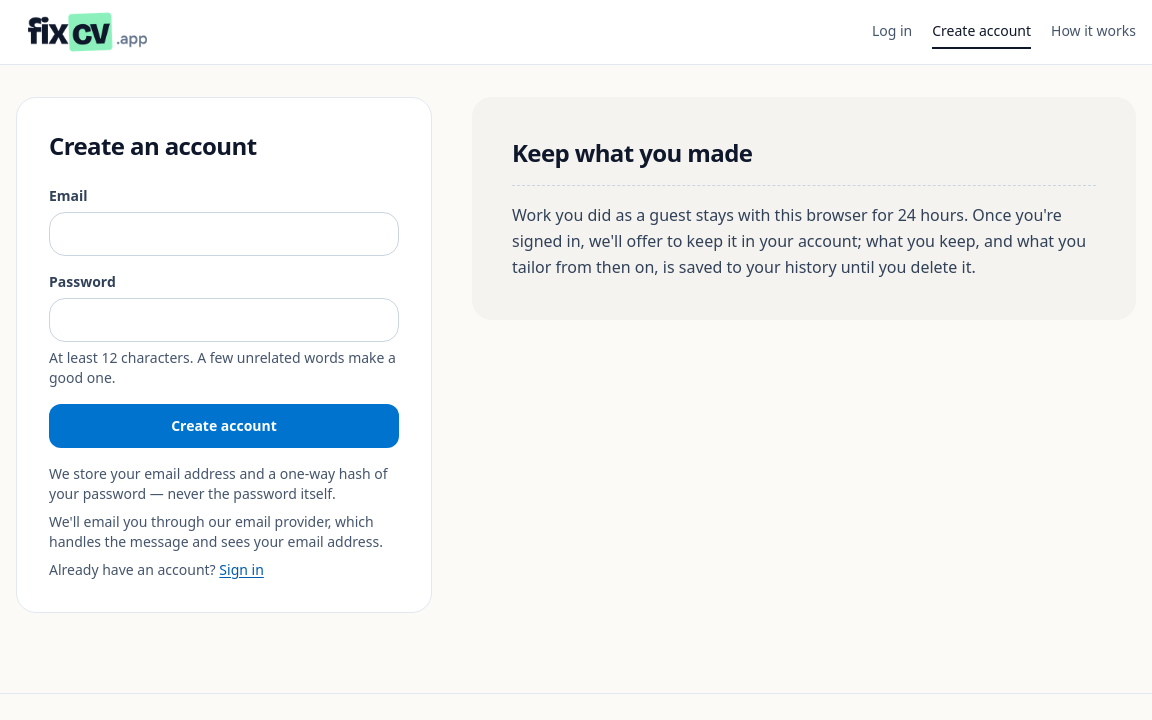
Test case: /register → Check your email › has one h1, the heading as an h2 that holds focus, and the instruction in a status region
Expected: the heading named "FixCV" is shown, [16,12,159,52]
In the field labelled "Email": point(224, 234) [49,212,399,256], type "alex.marker@example.com"
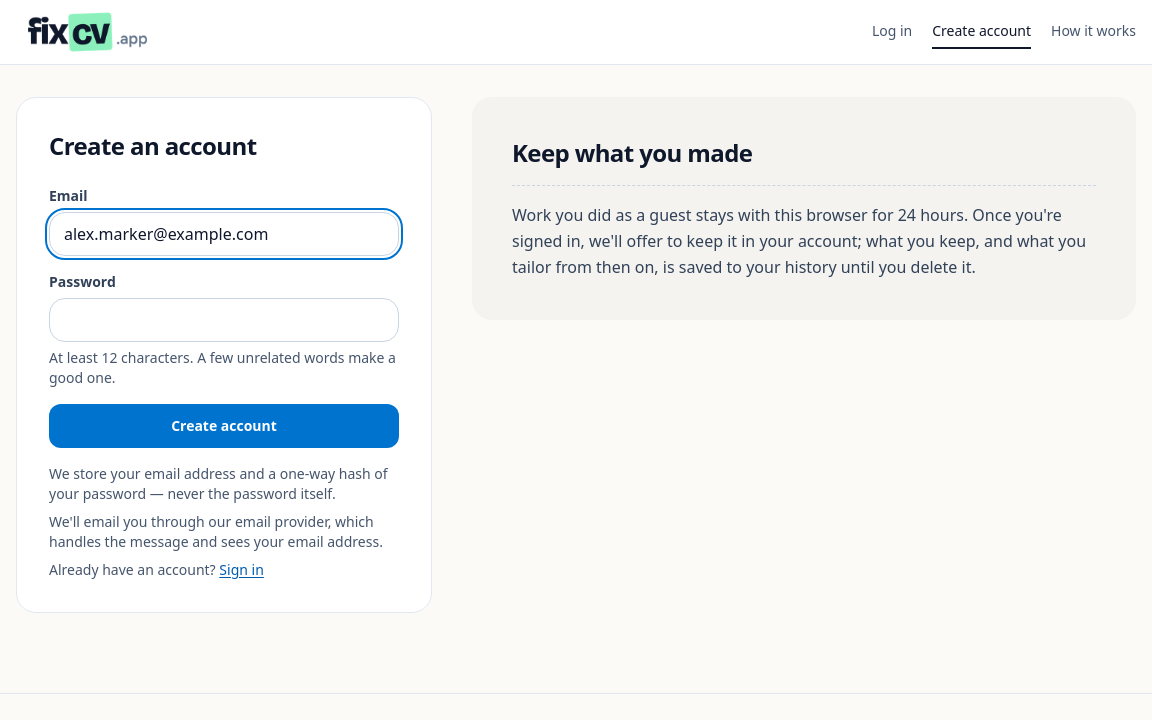
In the password field labelled "Password": point(224, 320) [49,298,399,342], type "a very long real password"
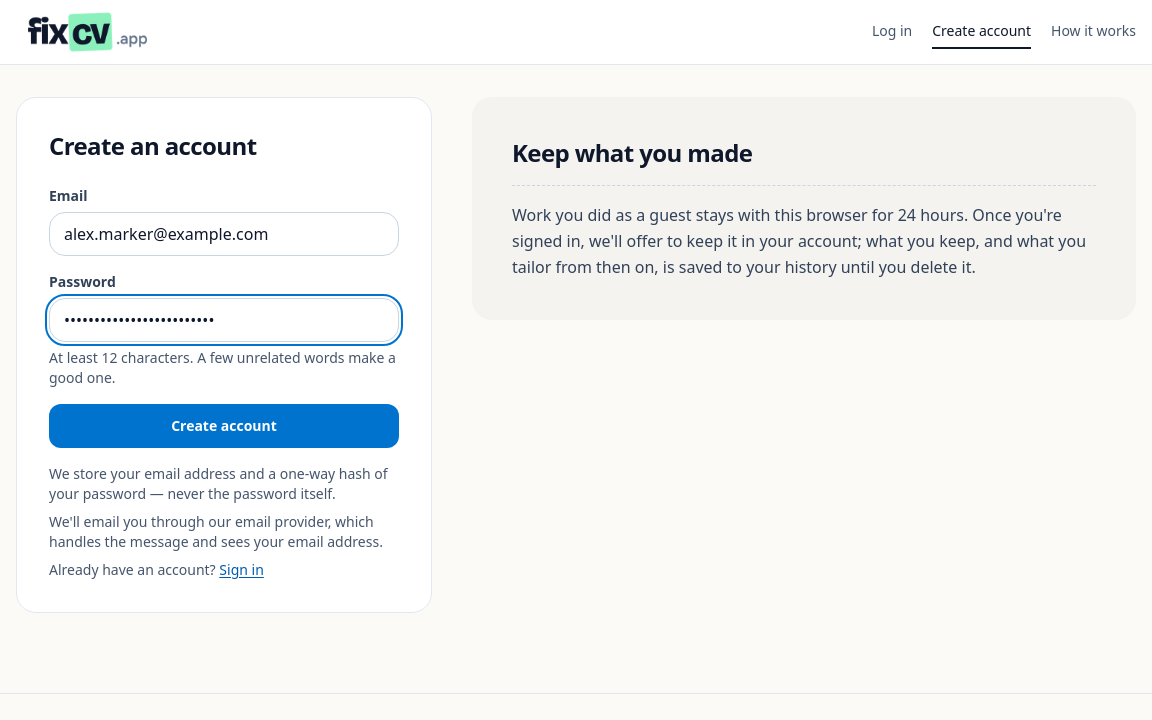
Click the button "Create account": point(224, 426) [49,404,399,448]
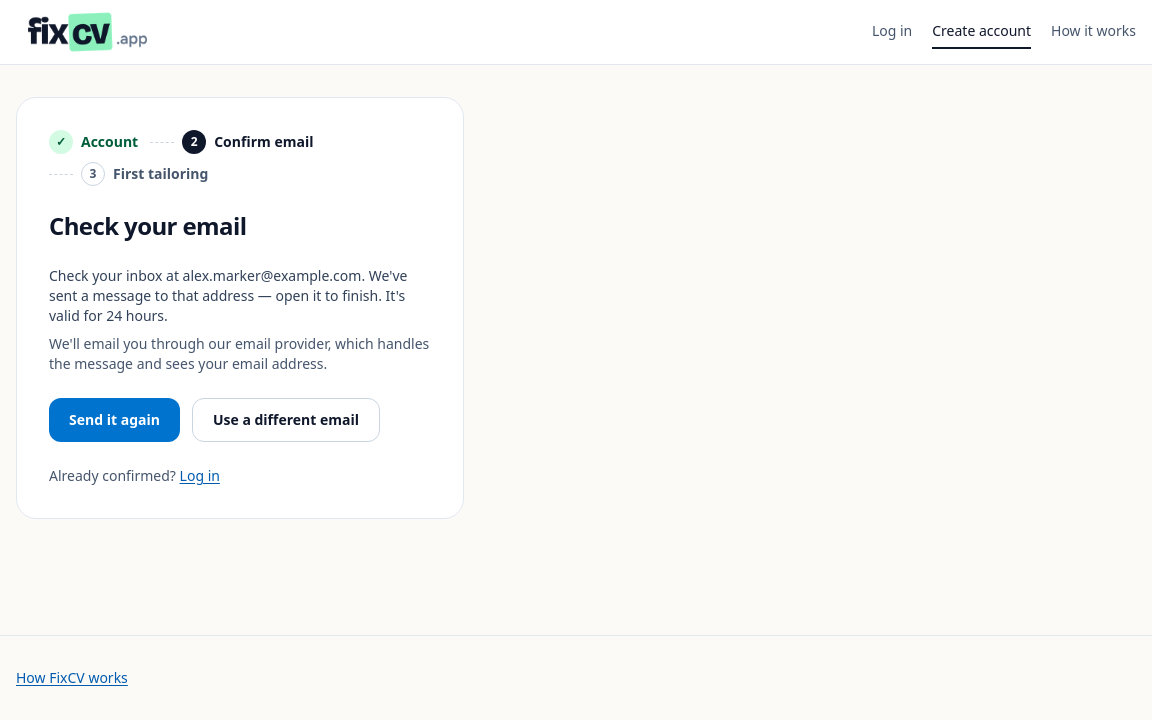
Expected: the heading named "FixCV" is shown, [16,12,159,52]
Now the message shows "alex.marker@example.com", box [49,266,408,325]
